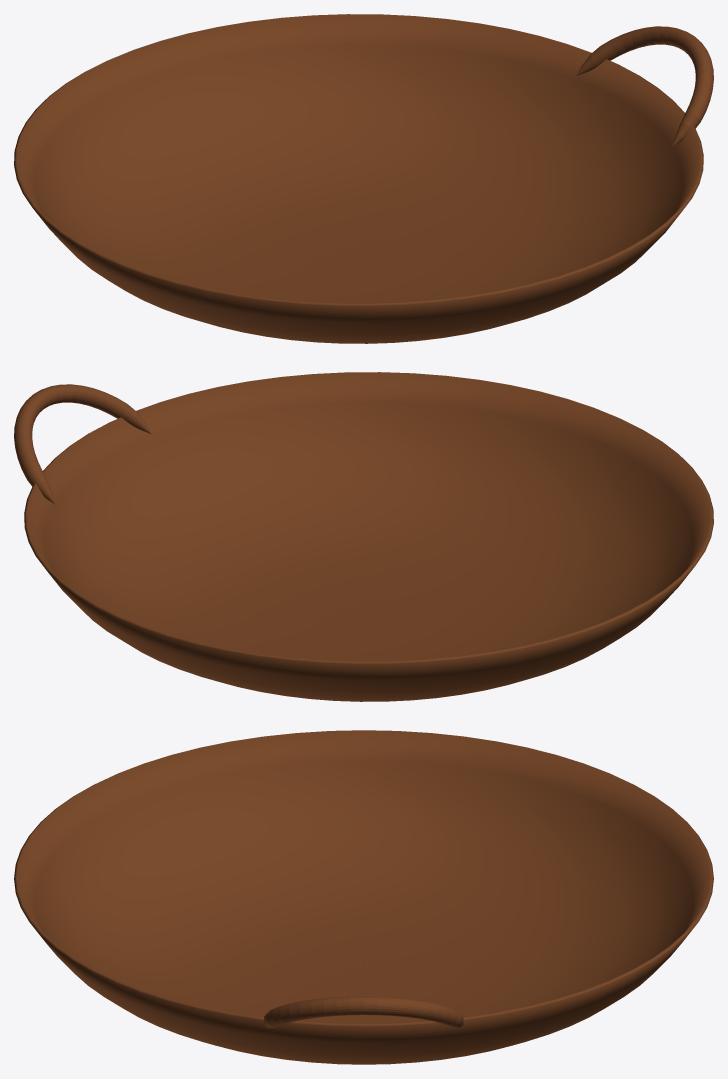
Rendered from PlateWith1Handle.fbx.
3 renders of one model, top to bottom at view 1: azimuth 30°, elevation 25°; view 2: azimuth 150°, elevation 25°; view 3: azimuth 270°, elevation 25°, orthographic.
Visible parts, largest first — view 1: Sphere, Torus.001; view 2: Sphere, Torus.001; view 3: Sphere, Torus.001.
Boxes of the visible parts, x1,y1,x2,y2 form: Sphere: [14, 14, 703, 343]; Torus.001: [576, 26, 713, 146]; Sphere: [24, 372, 713, 701]; Torus.001: [14, 384, 151, 504]; Sphere: [14, 730, 713, 1064]; Torus.001: [263, 996, 464, 1028].
Bounding box in the file's own units: 196 × 43.68 × 184.
